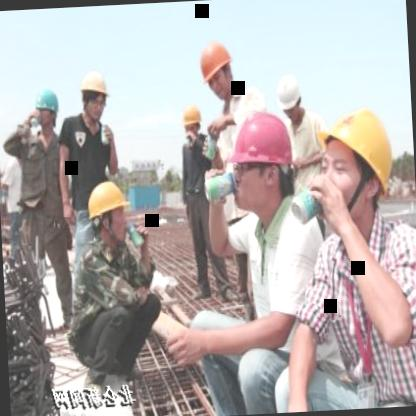helmet: (313, 93, 404, 226), (223, 104, 296, 214), (84, 174, 134, 247), (196, 35, 239, 105), (74, 62, 112, 127), (272, 68, 306, 122), (30, 84, 62, 132), (178, 99, 204, 142)
